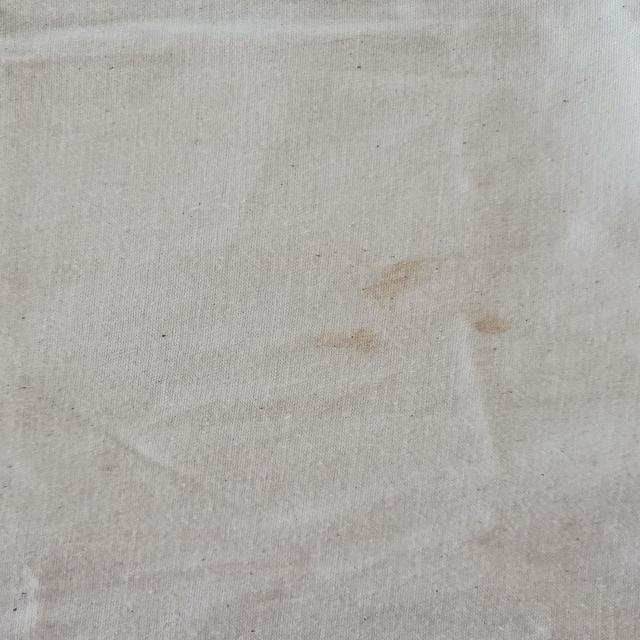taaaches: (339, 247, 458, 310), (301, 322, 410, 369), (451, 310, 540, 356)
